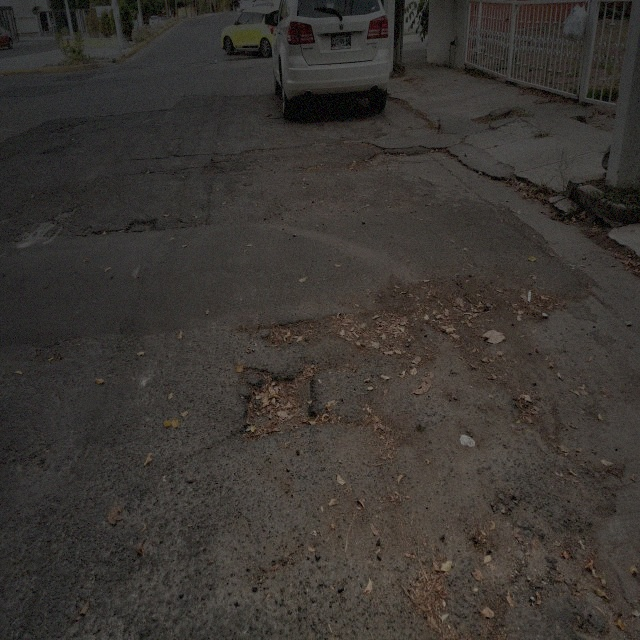pothole: (240, 353, 322, 437), (346, 300, 429, 366), (258, 317, 336, 344), (28, 206, 74, 247), (306, 154, 371, 178), (120, 216, 154, 233), (473, 111, 517, 124), (362, 139, 384, 155), (430, 144, 453, 156)
